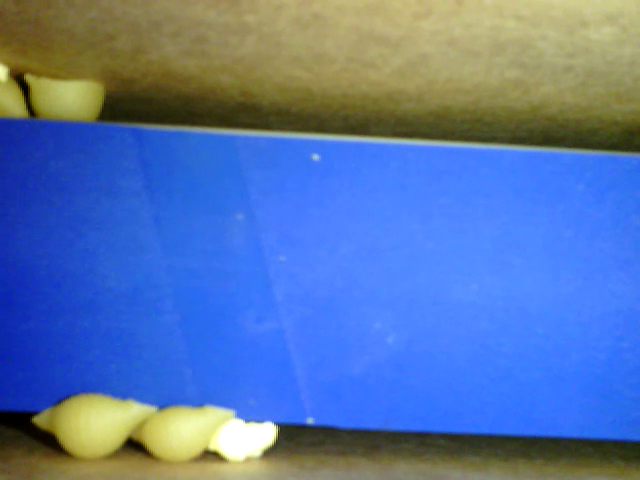shell: (31, 392, 159, 462), (127, 402, 236, 468), (27, 71, 107, 123)
